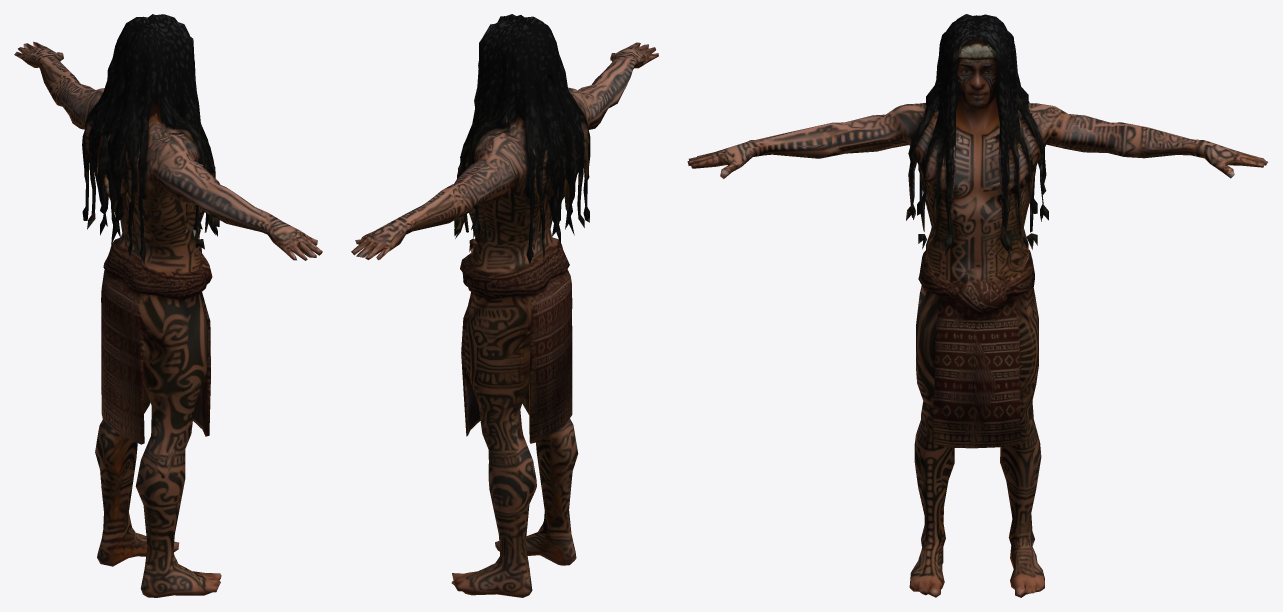
Rendered from drifter.fbx.
3 views of the same model, side by side, from view 1: azimuth 30°, elevation 25°; view 2: azimuth 150°, elevation 25°; view 3: azimuth 270°, elevation 25° (orthographic).
Parts seen in each view (by area): view 1: tripo_node_5564d910; view 2: tripo_node_5564d910; view 3: tripo_node_5564d910.
Part boxes in pixels (box(x1,y1,x2,y2)): tripo_node_5564d910: box(14, 14, 322, 597); tripo_node_5564d910: box(351, 14, 658, 597); tripo_node_5564d910: box(687, 14, 1267, 597).
Size of the model in its own units: 0.00629 by 0.0301 by 0.0283.
Materials: 1 (1 with a texture image).
